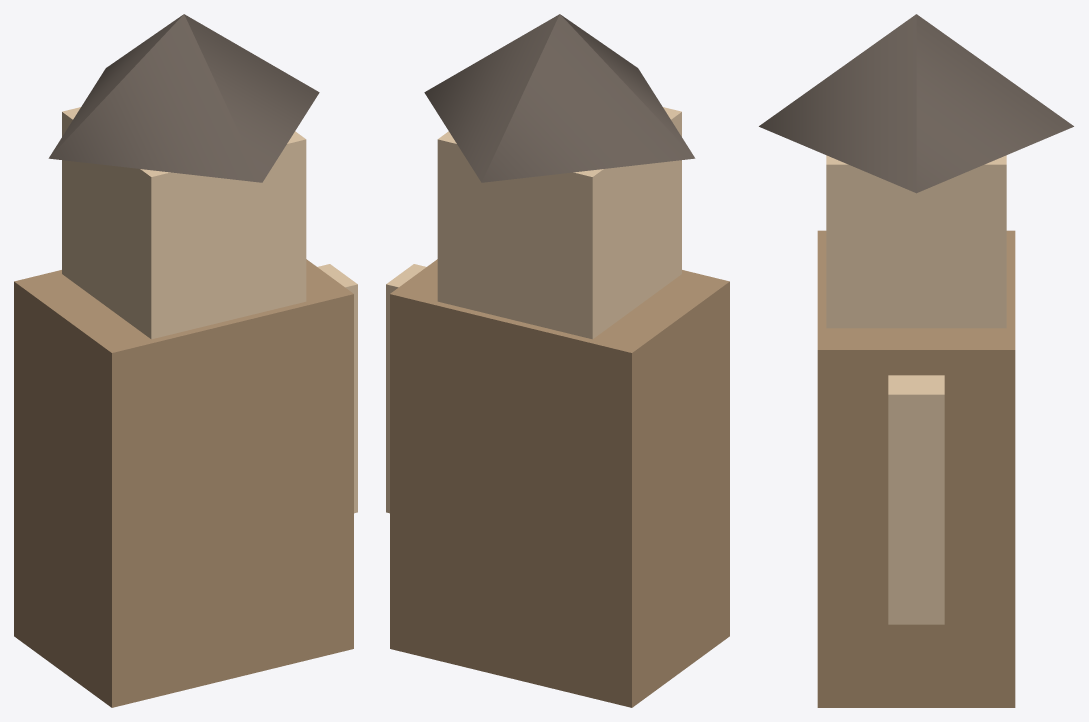
File: npc-pip.gltf
The picture shows the model from 3 angles, left to right: view 1: azimuth 30°, elevation 25°; view 2: azimuth 150°, elevation 25°; view 3: azimuth 270°, elevation 25°; orthographic projection.
Visible parts, largest first — view 1: Body, Head, Hat, Arm; view 2: Body, Head, Hat, Arm; view 3: Body, Hat, Head, Arm.
Part boxes in pixels (x1,y1,x2,y2): Body: (14, 259, 353, 707); Head: (62, 107, 306, 339); Hat: (48, 14, 319, 182); Arm: (317, 264, 357, 513); Body: (390, 259, 729, 707); Head: (437, 107, 681, 339); Hat: (424, 14, 695, 182); Arm: (386, 264, 426, 513); Body: (817, 230, 1015, 707); Hat: (759, 14, 1073, 193); Head: (826, 155, 1006, 328); Arm: (888, 375, 944, 624).
Bounding box in the file's own units: 0.61 × 1.24 × 0.56.
